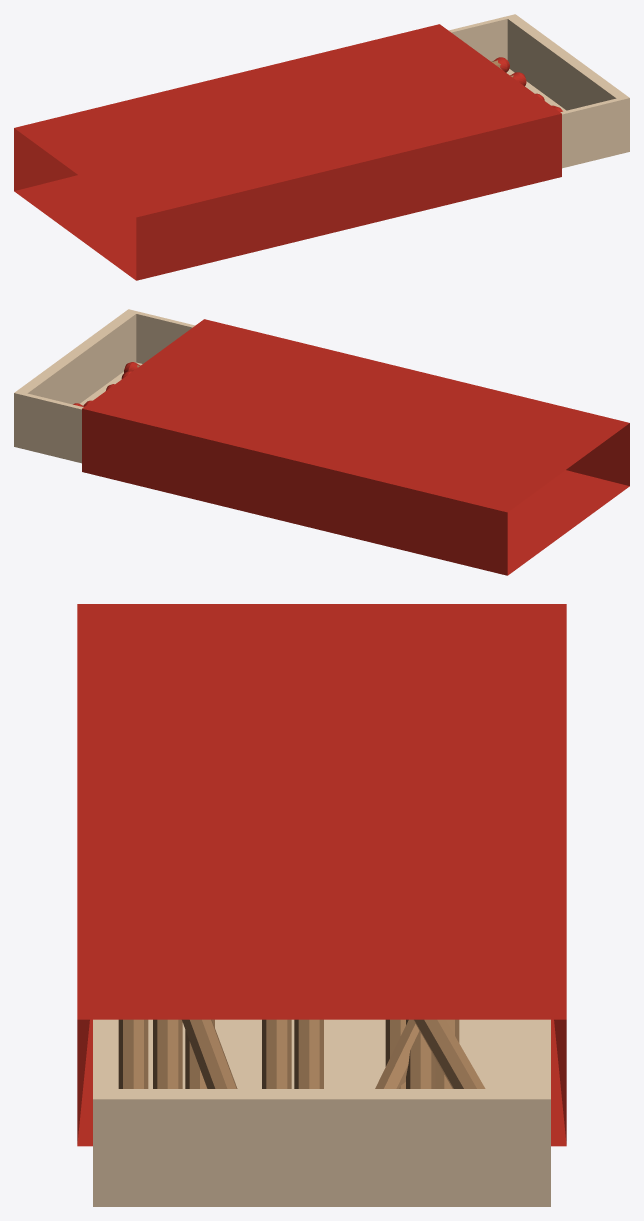
File: matchbox.fbx
3 renders of one model, top to bottom at view 1: azimuth 30°, elevation 25°; view 2: azimuth 150°, elevation 25°; view 3: azimuth 270°, elevation 25°, orthographic. The views are drawn at different scales.
Visible parts, largest first — view 1: Cube, Cube.001; view 2: Cube, Cube.001; view 3: Cube, Cube.001, Lucifer.006, Lucifer.001, Lucifer.009, Lucifer.007, Lucifer.008, Lucifer.011, Lucifer.010, Lucifer.005.
Boxes of the visible parts, <box> form: Cube: <box>14,24,561,280</box>; Cube.001: <box>448,14,629,168</box>; Cube: <box>82,319,629,575</box>; Cube.001: <box>14,309,195,463</box>; Cube: <box>77,604,566,1146</box>; Cube.001: <box>93,1019,550,1206</box>; Lucifer.006: <box>413,1019,485,1088</box>; Lucifer.001: <box>118,1019,148,1088</box>; Lucifer.009: <box>182,1019,237,1088</box>; Lucifer.007: <box>294,1019,323,1088</box>; Lucifer.008: <box>262,1019,291,1088</box>; Lucifer.011: <box>153,1019,182,1088</box>; Lucifer.010: <box>375,1019,419,1088</box>; Lucifer.005: <box>406,1019,435,1088</box>.
Size of the model in its own units: 23.19 by 2.82 by 9.88.
